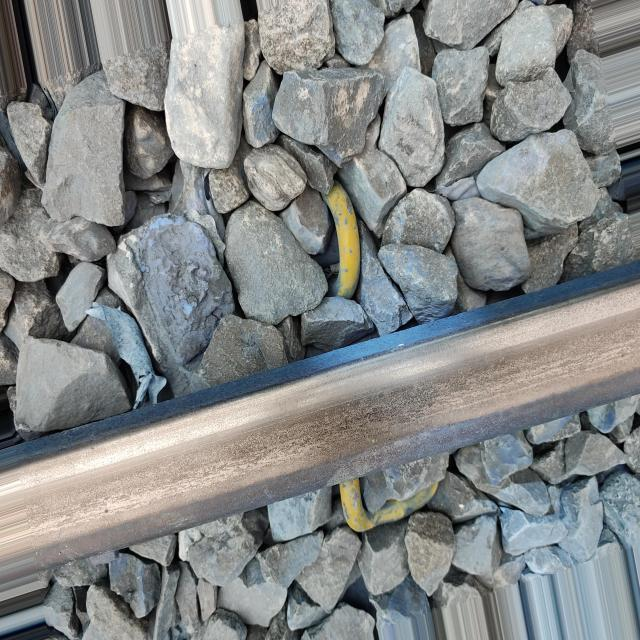Good Fasteners: (339, 478, 438, 532), (323, 182, 360, 299)
